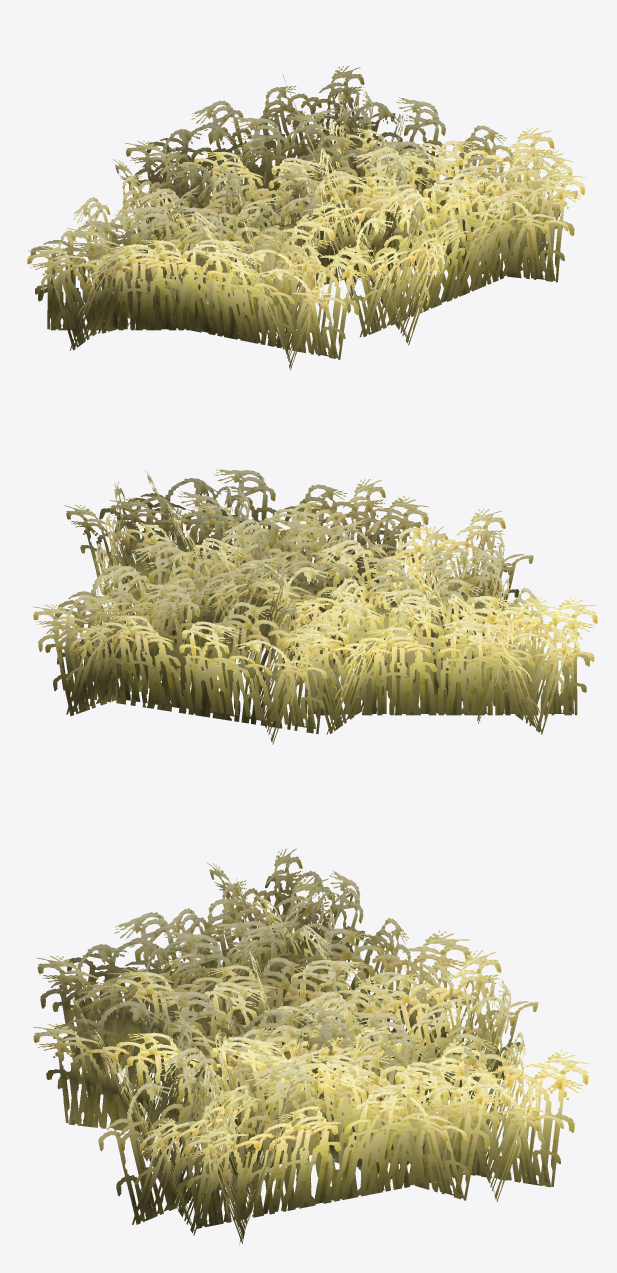
The model's file is grass_la_tall_b.glb.
3 views of the same model, one above another, from view 1: azimuth 30°, elevation 25°; view 2: azimuth 150°, elevation 25°; view 3: azimuth 270°, elevation 25° (orthographic). The views are drawn at different scales.
Parts seen in each view (by area): view 1: grass_la_tall_b; view 2: grass_la_tall_b; view 3: grass_la_tall_b.
Boxes of the visible parts, x1,y1,x2,y2 form: grass_la_tall_b: (23, 65, 585, 370); grass_la_tall_b: (32, 469, 601, 744); grass_la_tall_b: (28, 845, 594, 1244).
Bounding box in the file's own units: 13.09 × 3.3 × 10.45.
Materials: 1 (1 with a texture image).
